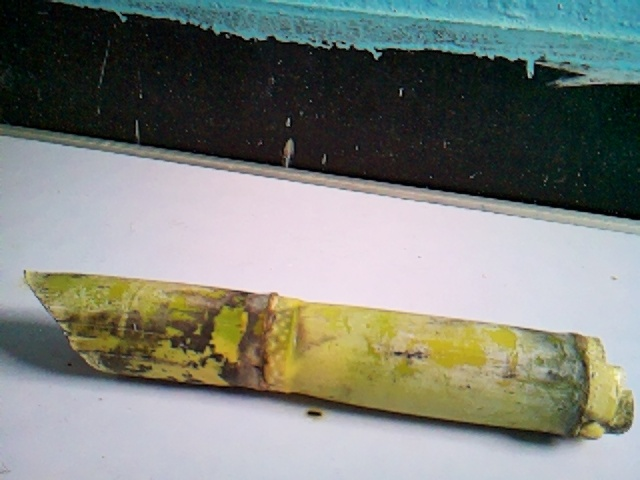Good Sugarcane: (21, 264, 633, 452)
Node: (230, 283, 315, 401), (548, 327, 608, 445)
